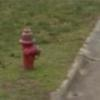a fire hydrant: (20, 29, 40, 70)
